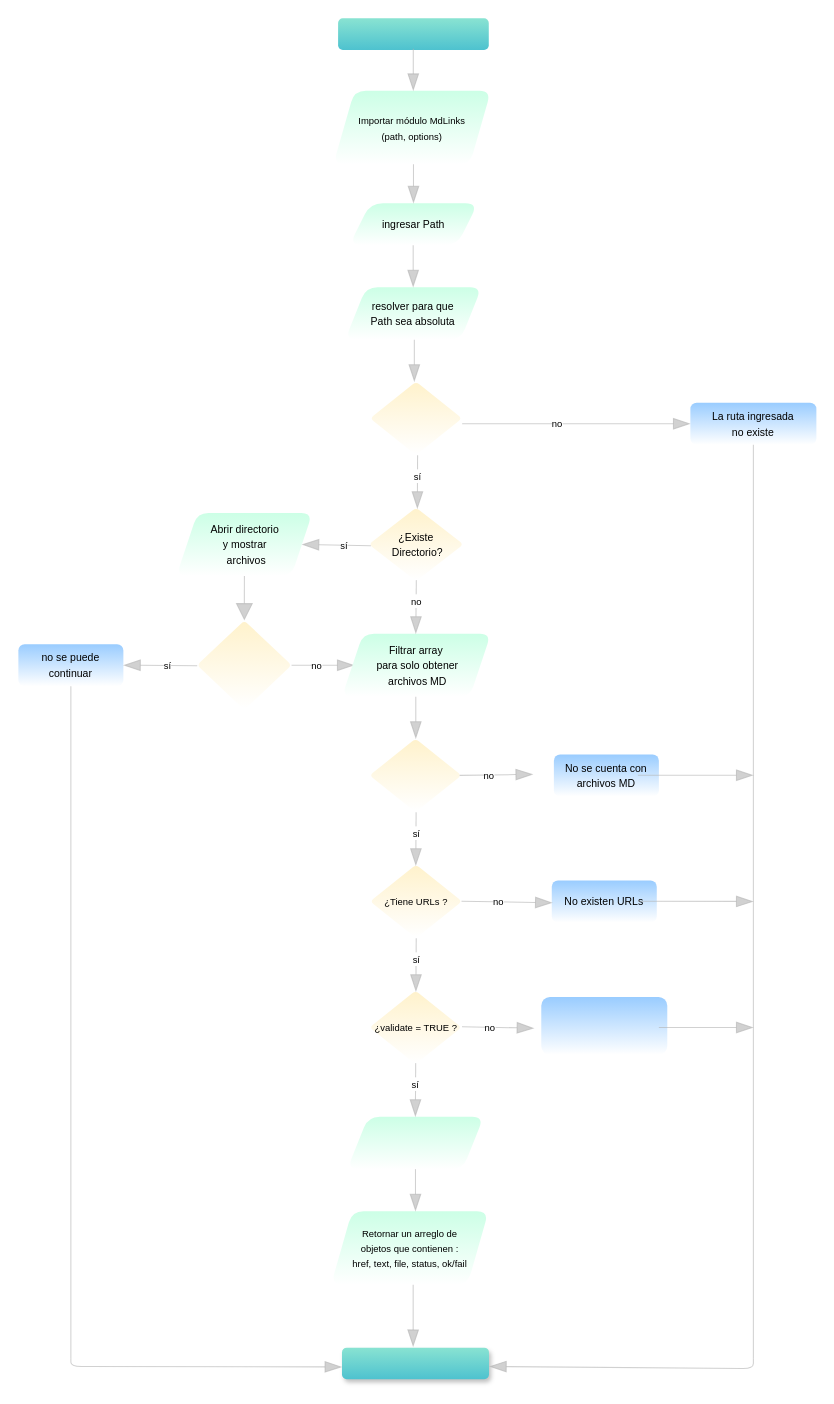
This 834x1404 diagram has some shape labels left out. The shapes that lost their labels are listed below. From the top down, each one's centre as x and y in pixels, then its label:
(x=413, y=33): START
(x=415, y=418): ¿Existe Path?
(x=244, y=664): ¿El Directorio está vacío?
(x=415, y=775): ¿Hay archivos MD ?
(x=604, y=1025): Retornar un arreglo de objetos que contienen : href, text, file,
(x=415, y=1142): HTTP REQUEST
(x=416, y=1364): END
